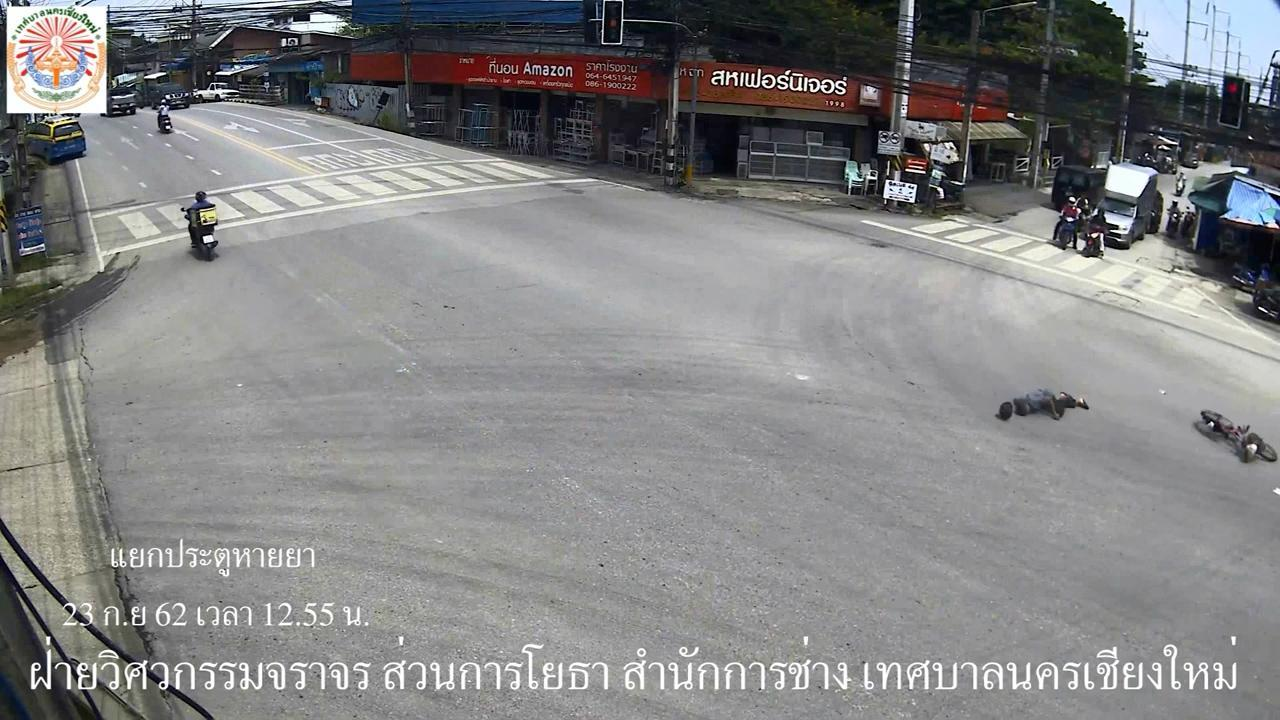accident: (987, 384, 1096, 429)
